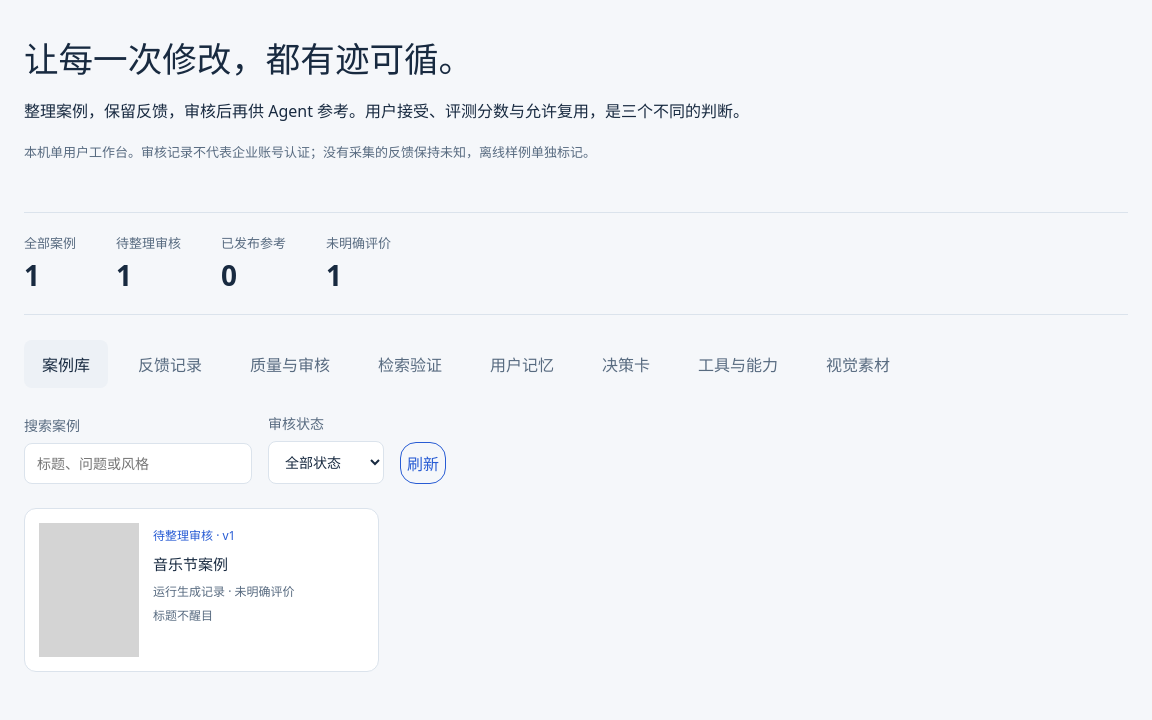
PosterHub › keeps unknown feedback and incomparable scores separate
The width and height of the screenshot is (1152, 720).
(page scrolled)
Click the button with aria-label "查看 音乐节案例": coordinates (201, 590) [25,509,378,671]
(page scrolled)
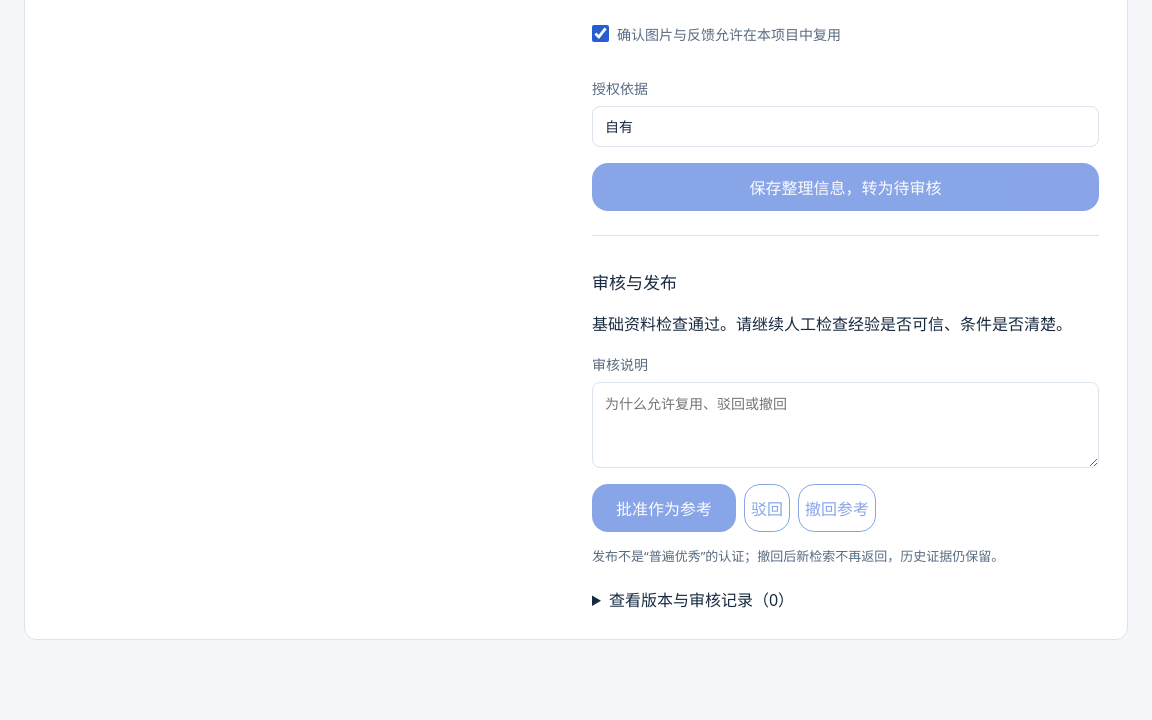
Result: the button "批准作为参考" is disabled at [592,484,736,532]
